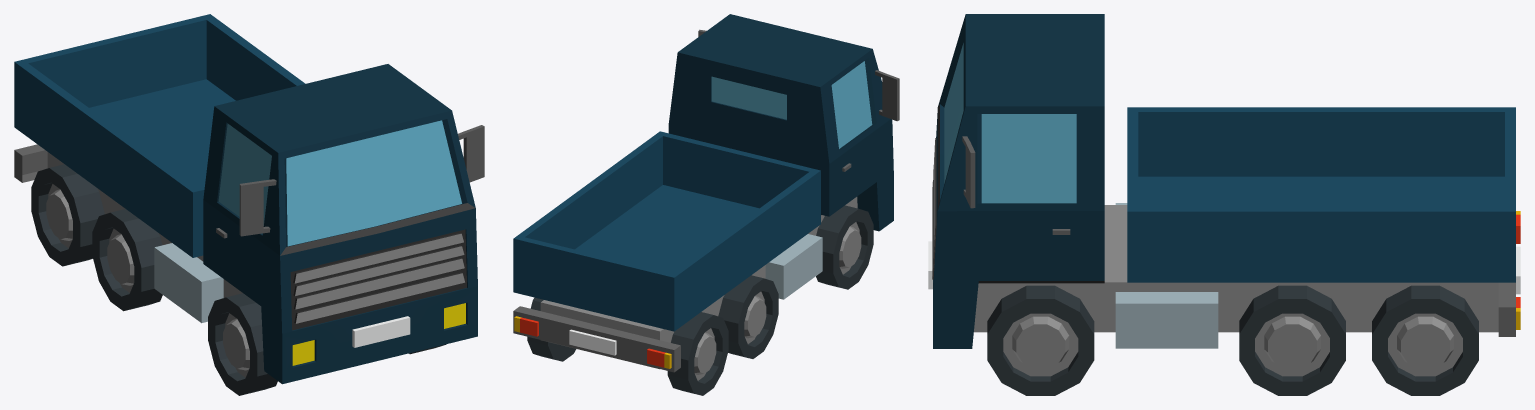
File: Black-car.glb
3 views of the same model, side by side, from view 1: azimuth 30°, elevation 25°; view 2: azimuth 150°, elevation 25°; view 3: azimuth 270°, elevation 25° (orthographic). The views are drawn at different scales.
Parts seen in each view (by area): view 1: Small Truck.002; view 2: Small Truck.002; view 3: Small Truck.002.
Boxes of the visible parts, x1,y1,x2,y2 form: Small Truck.002: (14,14,484,395); Small Truck.002: (513,14,899,395); Small Truck.002: (928,14,1520,395).
Size of the model in its own units: 2.89 by 2.96 by 5.6.
Materials: 1 (1 with a texture image).
